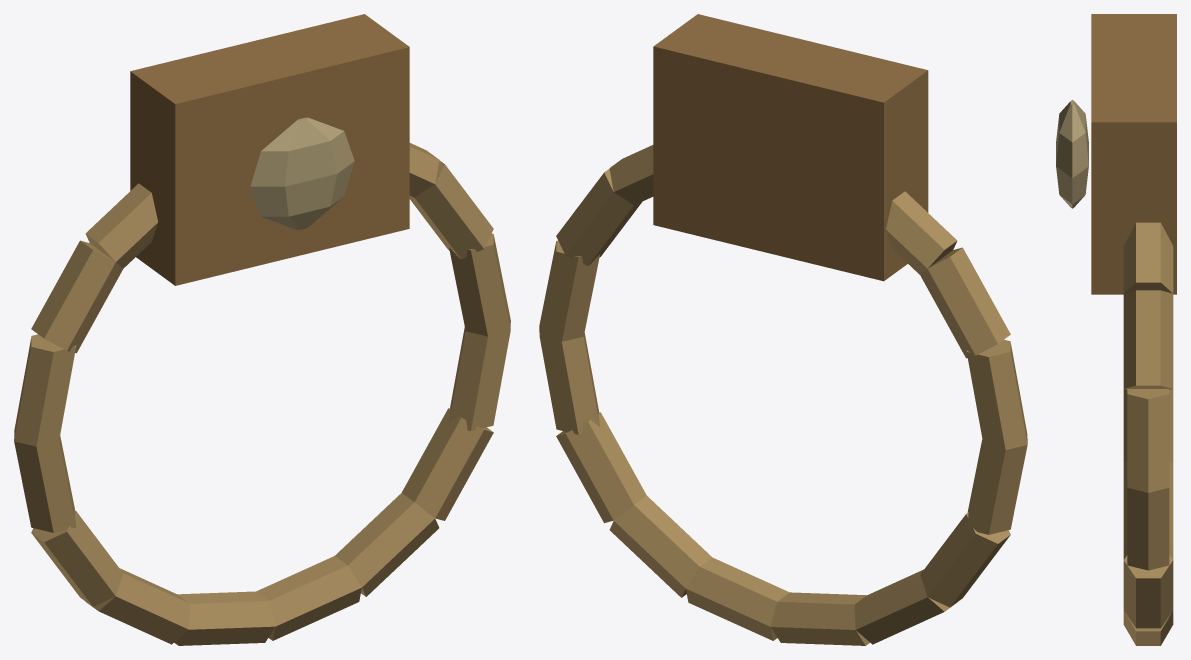
Rendered from rellanSignet.glb.
3 renders of one model, left to right at view 1: azimuth 30°, elevation 25°; view 2: azimuth 150°, elevation 25°; view 3: azimuth 270°, elevation 25°, orthographic. The views are drawn at different scales.
Visible parts, largest first — view 1: rellanSignet; view 2: rellanSignet; view 3: rellanSignet.
Part boxes in pixels (bbox=[...]): rellanSignet: bbox=[14, 14, 510, 645]; rellanSignet: bbox=[539, 14, 1027, 645]; rellanSignet: bbox=[1056, 14, 1176, 645].
Size of the model in its own units: 0.8908 by 1 by 0.1983.
